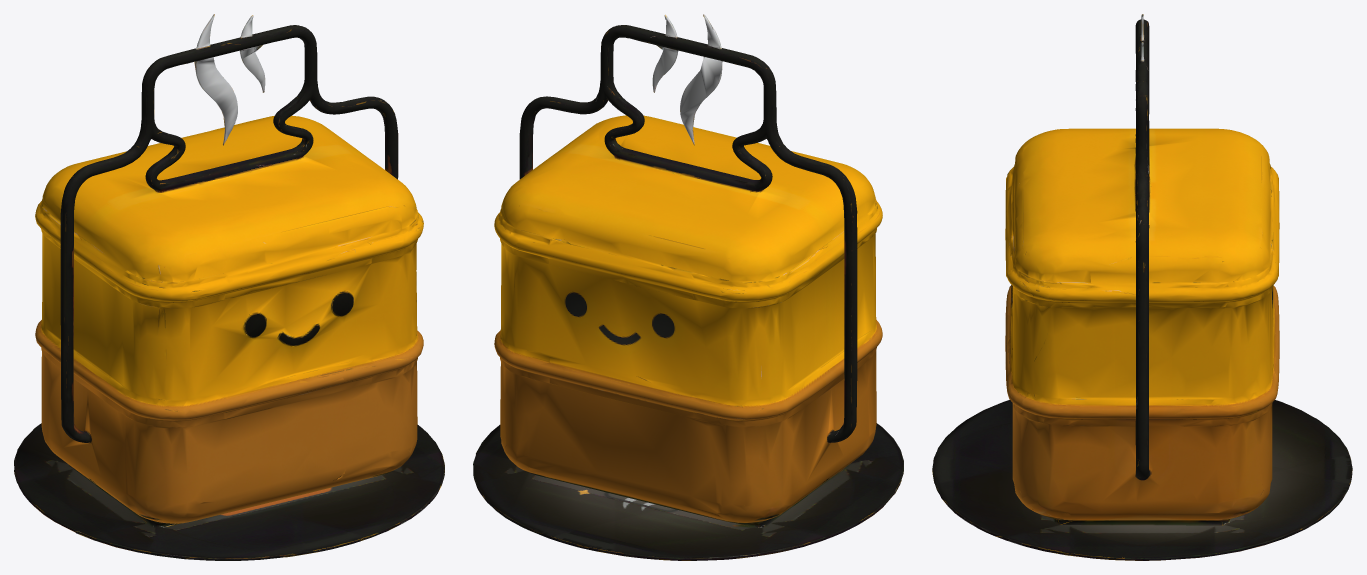
File: mascot.glb
3 views of the same model, side by side, from view 1: azimuth 30°, elevation 25°; view 2: azimuth 150°, elevation 25°; view 3: azimuth 270°, elevation 25° (orthographic).
Visible parts, largest first — view 1: Mesh_0; view 2: Mesh_0; view 3: Mesh_0.
Boxes of the visible parts, <box> form: Mesh_0: <box>14,14,444,560</box>; Mesh_0: <box>473,14,903,560</box>; Mesh_0: <box>932,14,1352,560</box>.
Bounding box in the file's own units: 1.6 × 1.9 × 1.6.
1 material, 1 textured.
